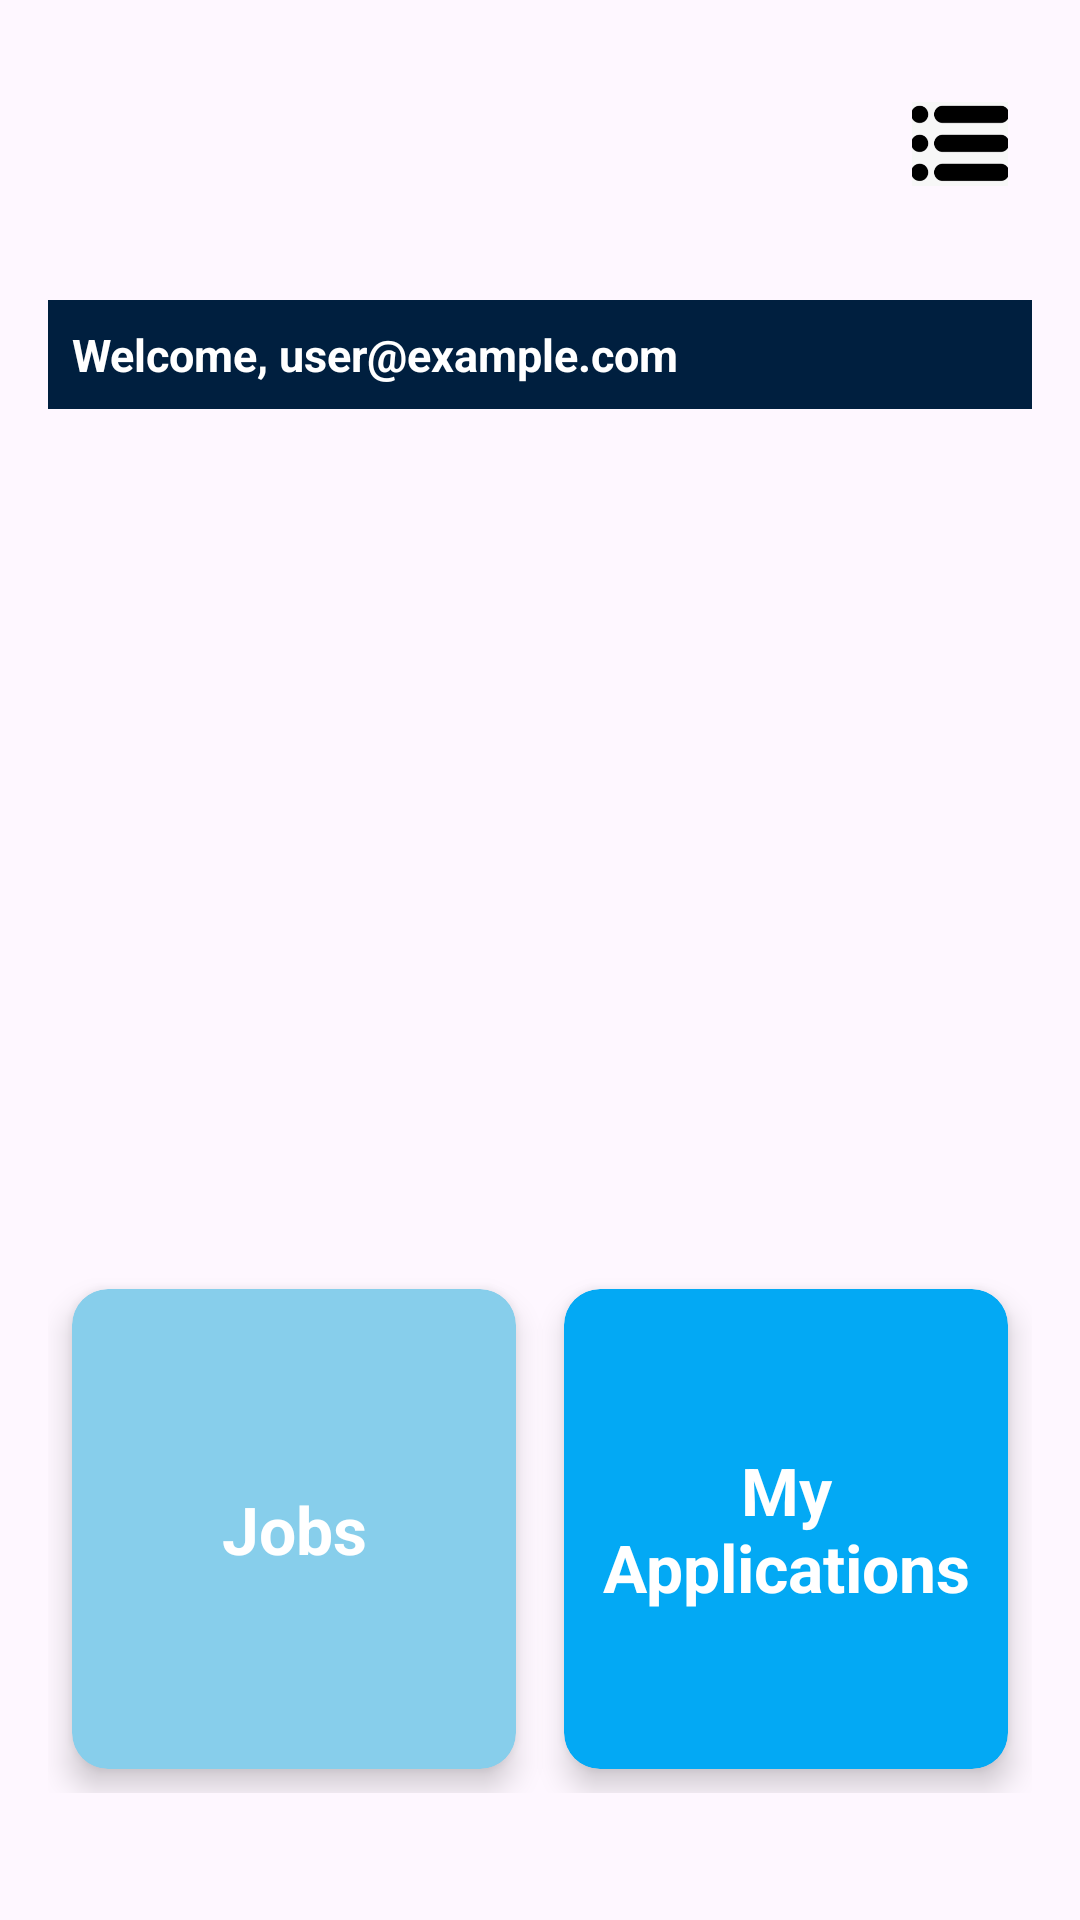

Icon click points for this 1080w x 1920h phone screenshot, format point (x, y):
Menu Icon: point (960, 143)
